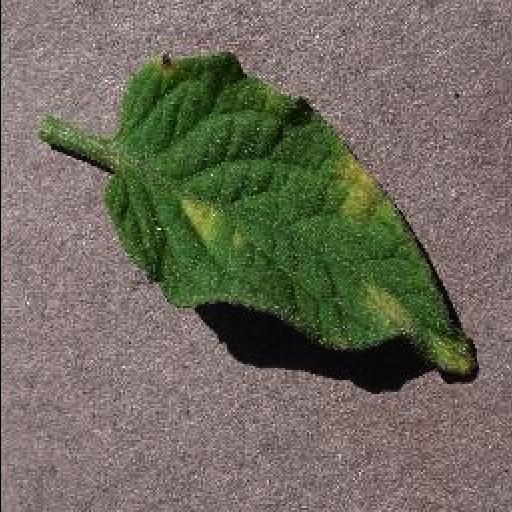disease_tomato: (98, 51, 476, 379)
